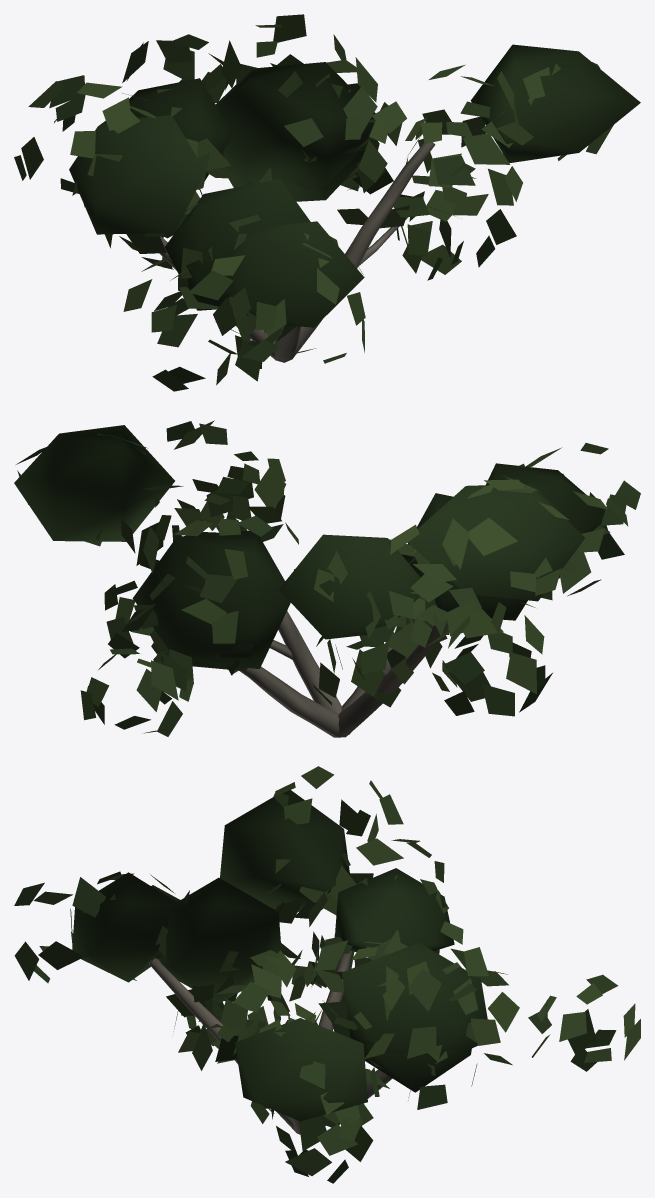
The model's file is tree_oak_mid.glb.
The picture shows the model from 3 angles, top to bottom: view 1: azimuth 30°, elevation 25°; view 2: azimuth 150°, elevation 25°; view 3: azimuth 270°, elevation 25°; orthographic projection. The views are drawn at different scales.
Parts seen in each view (by area): view 1: tree_oak_mid; view 2: tree_oak_mid; view 3: tree_oak_mid.
Part boxes in pixels (x1,y1,x2,y2): tree_oak_mid: (14,14,640,391); tree_oak_mid: (14,420,640,737); tree_oak_mid: (14,766,640,1183).
Bounding box in the file's own units: 16.1 × 8.23 × 16.7.
